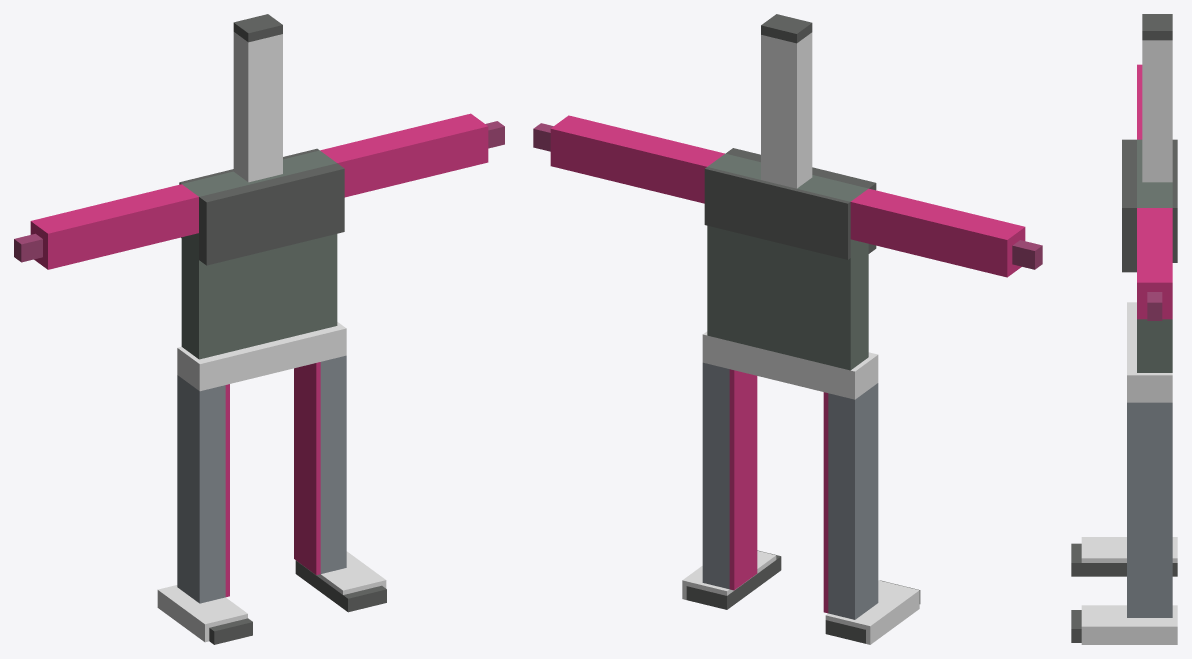
File: CONCEPT_APRIX02_CHARACTER.obj
3 renders of one model, left to right at view 1: azimuth 30°, elevation 25°; view 2: azimuth 150°, elevation 25°; view 3: azimuth 270°, elevation 25°, orthographic. The views are drawn at different scales.
Size of the model in its own units: 112 by 126 by 21.
Materials: 1 (1 with a texture image).
